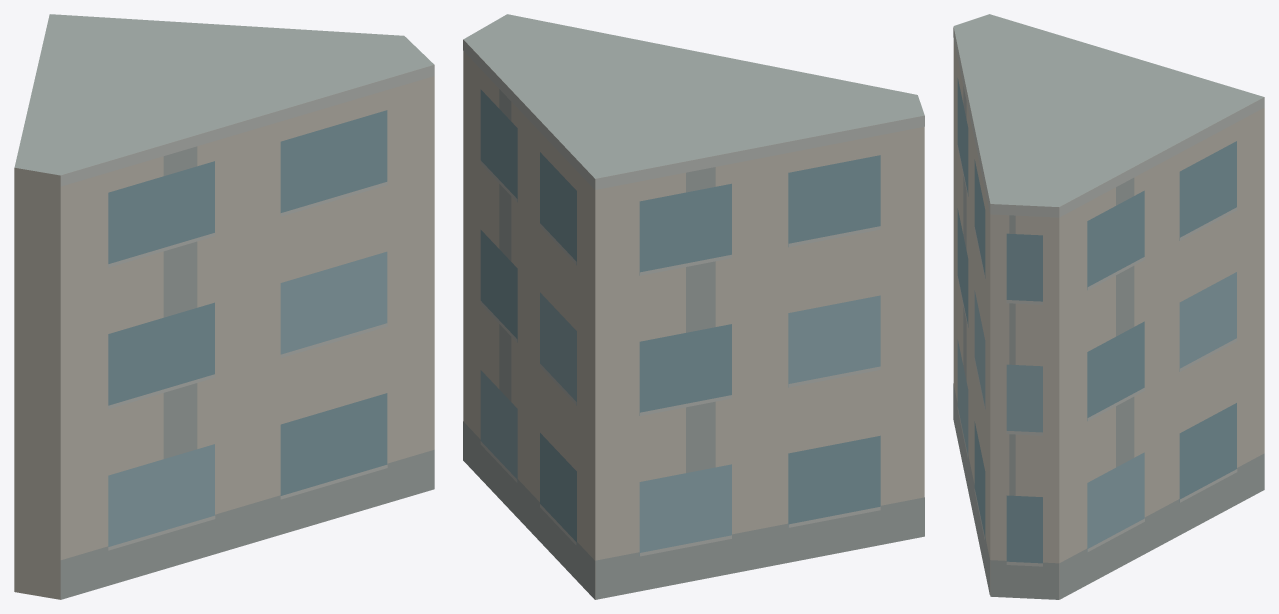
Rendered from survey-upis-32619659.glb.
3 renders of one model, left to right at view 1: azimuth 30°, elevation 25°; view 2: azimuth 150°, elevation 25°; view 3: azimuth 270°, elevation 25°, orthographic. The views are drawn at different scales.
Parts seen in each view (by area): view 1: survey-upis-32619659.tmp; view 2: survey-upis-32619659.tmp; view 3: survey-upis-32619659.tmp.
Boxes of the visible parts, left/top/right/bottom form: survey-upis-32619659.tmp: left=14, top=14, right=434, bottom=599; survey-upis-32619659.tmp: left=463, top=14, right=924, bottom=599; survey-upis-32619659.tmp: left=953, top=14, right=1264, bottom=599.
Size of the model in its own units: 9.66 by 9.15 by 6.58.
